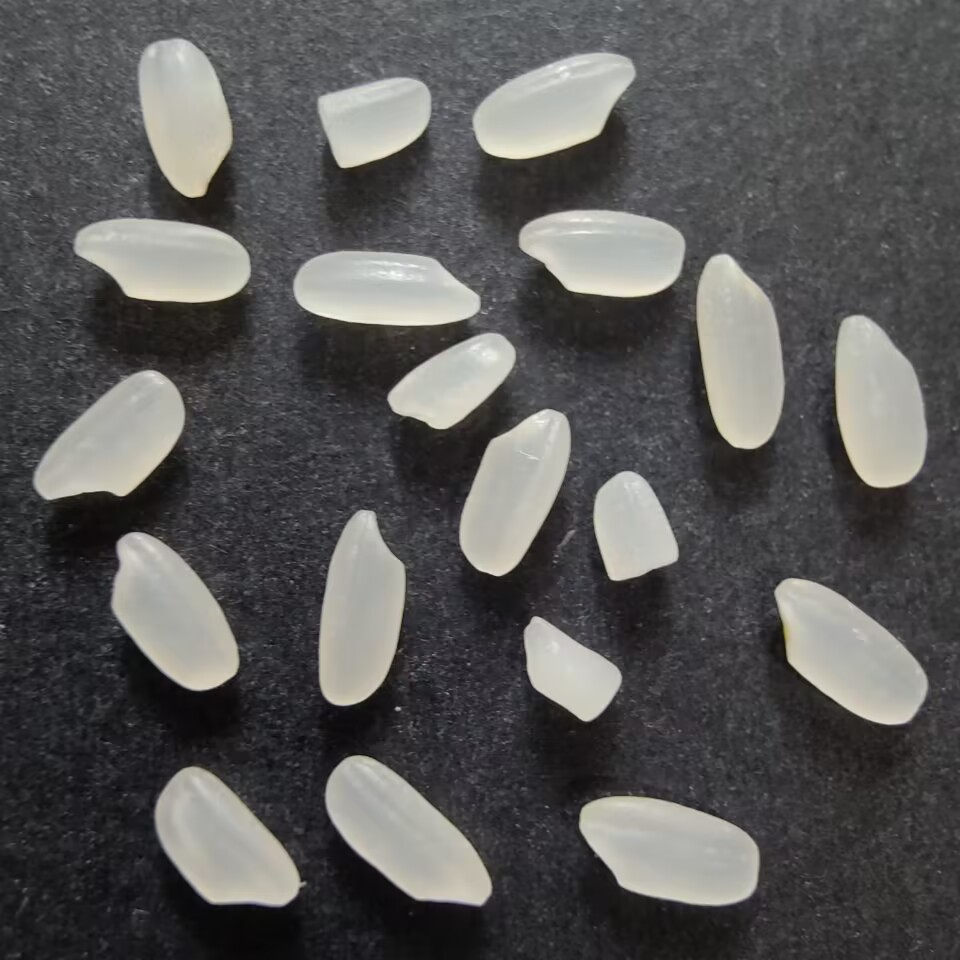broken: (384, 331, 517, 432), (519, 613, 625, 725), (311, 75, 434, 170), (587, 468, 680, 584)
rice: (319, 752, 495, 911), (769, 577, 935, 731), (27, 365, 192, 506), (104, 530, 243, 697), (575, 793, 766, 909), (153, 763, 303, 910), (314, 505, 412, 709), (694, 249, 788, 452), (469, 50, 640, 161), (831, 310, 931, 492), (71, 214, 253, 304), (136, 38, 235, 201), (513, 206, 689, 297), (291, 248, 487, 328)
